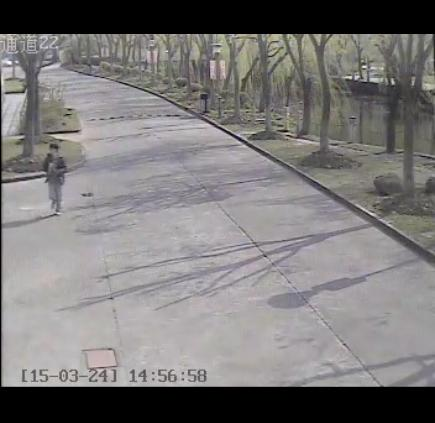person: (35, 137, 67, 220)
